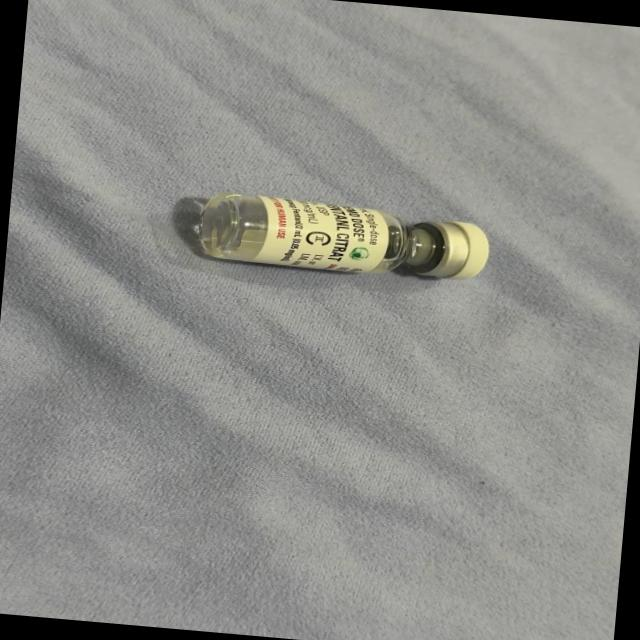fentanl_citrat: (197, 190, 486, 282)
